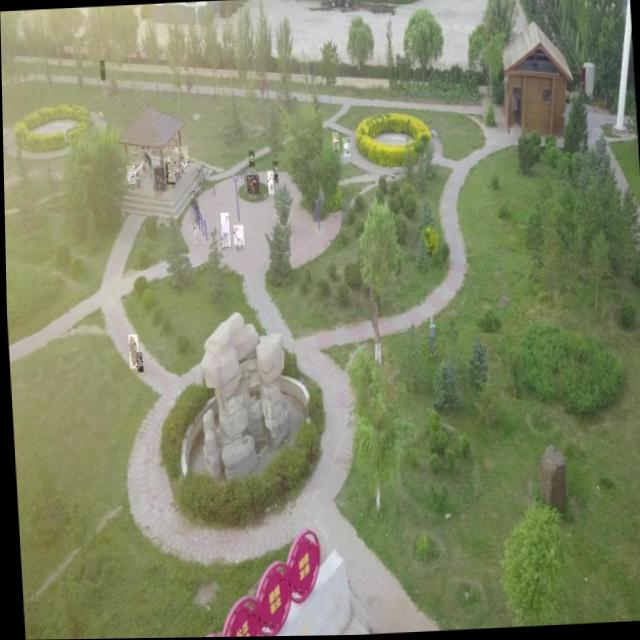Person: (126, 334, 137, 369), (219, 213, 229, 247), (188, 191, 198, 220), (152, 168, 164, 192), (177, 147, 188, 173), (166, 155, 176, 182), (245, 176, 258, 196), (164, 163, 175, 185), (231, 225, 243, 245), (171, 147, 180, 172), (125, 165, 135, 184), (140, 145, 149, 165), (152, 177, 161, 197), (266, 171, 273, 195), (134, 352, 142, 372), (271, 161, 278, 183), (341, 138, 349, 157), (331, 133, 338, 151), (99, 61, 105, 81), (247, 151, 254, 168), (191, 222, 196, 245)
